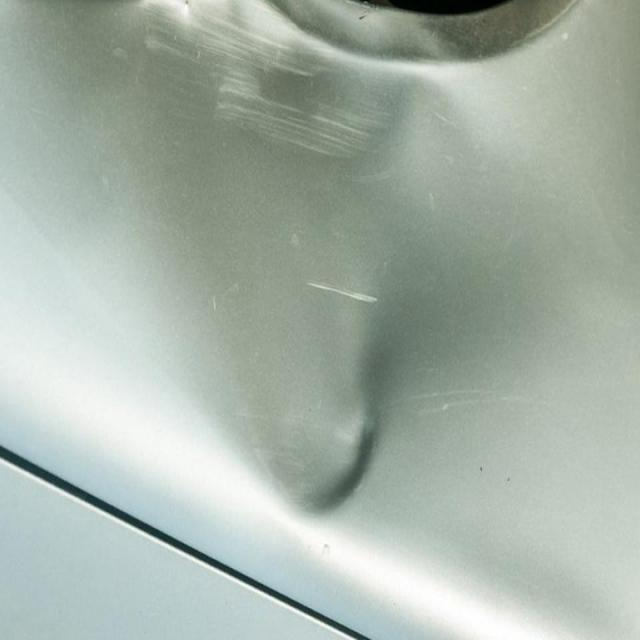dent: (232, 315, 400, 530)
